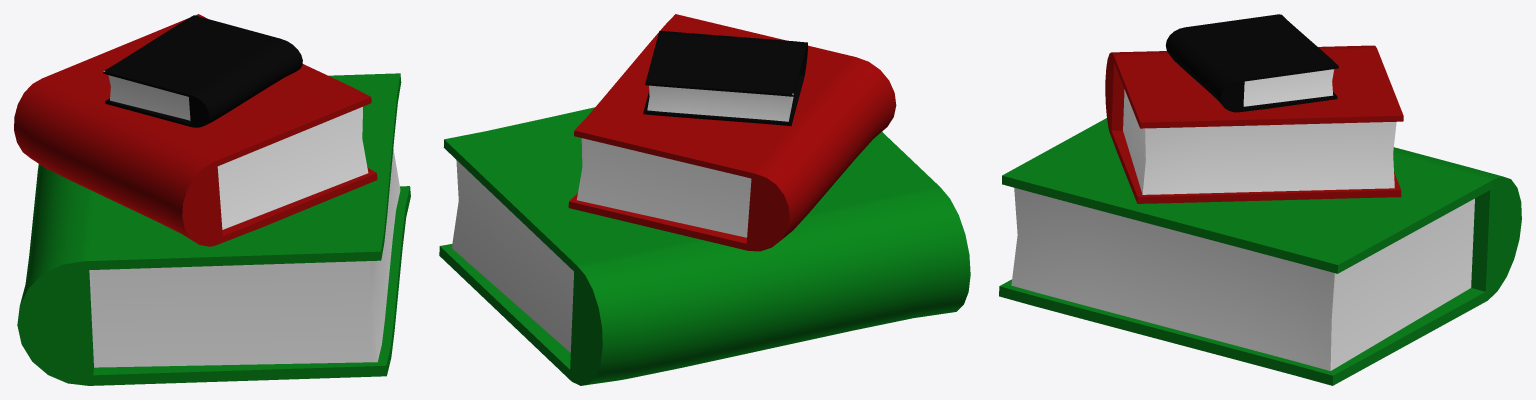
The model's file is bookStack.fbx.
The picture shows the model from 3 angles, left to right: view 1: azimuth 30°, elevation 25°; view 2: azimuth 150°, elevation 25°; view 3: azimuth 270°, elevation 25°; orthographic projection. The views are drawn at different scales.
Parts seen in each view (by area): view 1: Book, Book6, Book5; view 2: Book, Book6, Book5; view 3: Book, Book6, Book5.
Part boxes in pixels (x1,y1,x2,y2): Book: [17, 73, 410, 385]; Book6: [14, 14, 377, 246]; Book5: [103, 15, 302, 127]; Book: [439, 107, 970, 385]; Book6: [568, 14, 896, 251]; Book5: [643, 30, 807, 126]; Book: [999, 118, 1521, 385]; Book6: [1105, 45, 1403, 203]; Book5: [1165, 14, 1338, 112].
Size of the model in its own units: 8.39 by 4.36 by 8.51.
